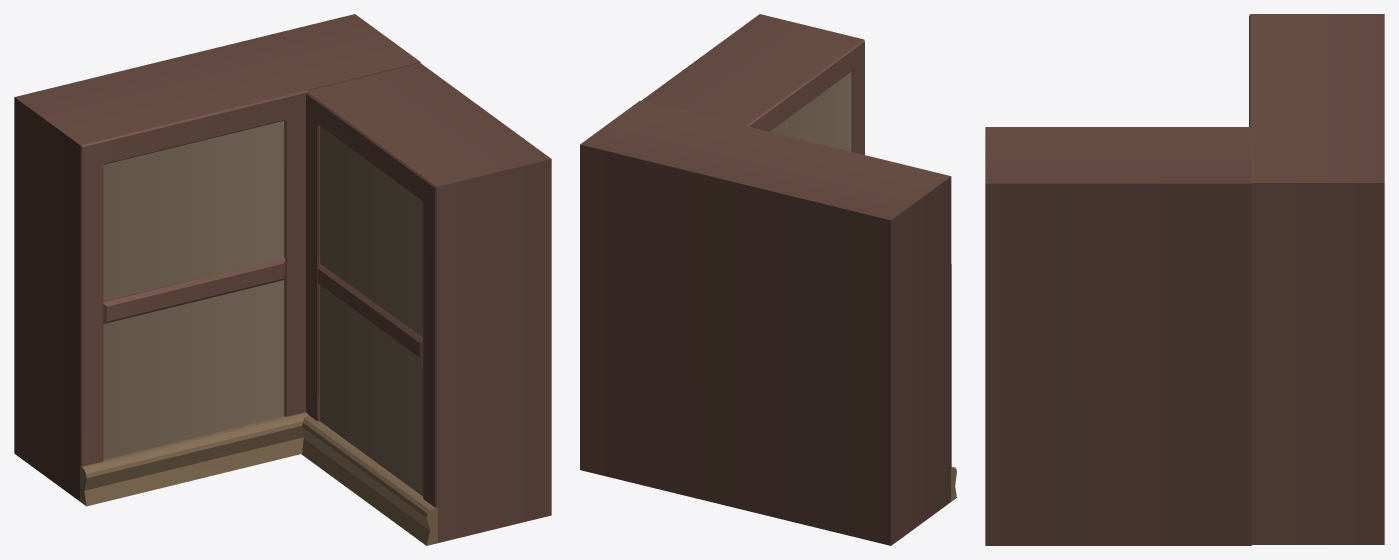
Rendered from quinaNoventaGraus_Lab_varianteUm_LoPo.fbx.
3 renders of one model, left to right at view 1: azimuth 30°, elevation 25°; view 2: azimuth 150°, elevation 25°; view 3: azimuth 270°, elevation 25°, orthographic. The views are drawn at different scales.
Parts seen in each view (by area): view 1: quinaNoventaGraus_Lab_varianteUm_LoPo; view 2: quinaNoventaGraus_Lab_varianteUm_LoPo; view 3: quinaNoventaGraus_Lab_varianteUm_LoPo.
Part boxes in pixels (<box>): quinaNoventaGraus_Lab_varianteUm_LoPo: <box>14,14,551,545</box>; quinaNoventaGraus_Lab_varianteUm_LoPo: <box>580,14,956,545</box>; quinaNoventaGraus_Lab_varianteUm_LoPo: <box>985,14,1384,545</box>.
Size of the model in its own units: 300 by 301 by 300.
